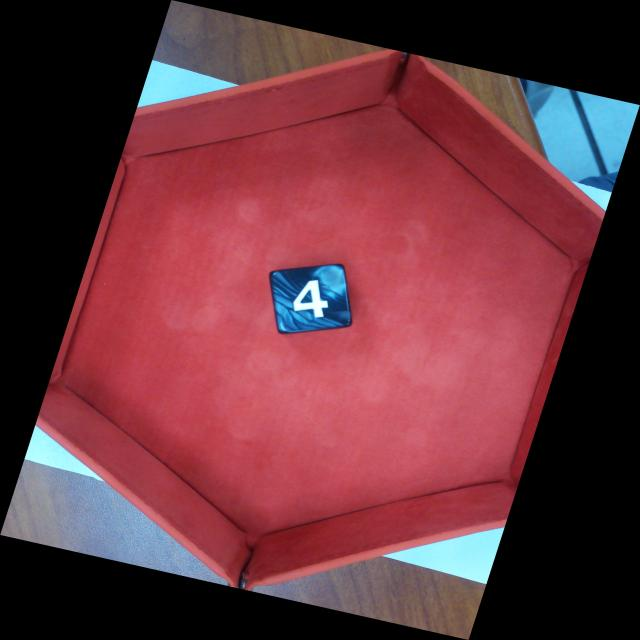dice: (274, 266, 348, 333)
